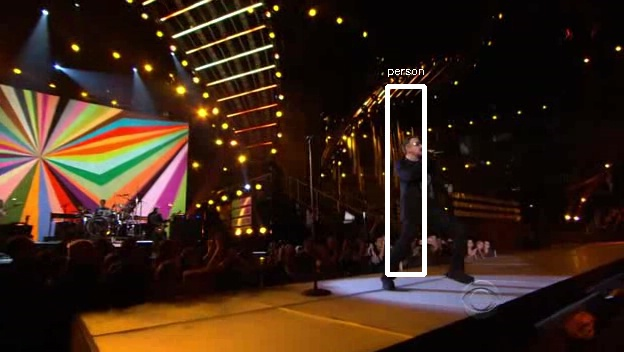person: (394, 139, 453, 241), (391, 139, 450, 241), (397, 139, 456, 241), (394, 136, 453, 238), (394, 142, 453, 244)
target_negative: (347, 169, 617, 316), (417, 79, 517, 336), (65, 50, 194, 154), (86, 94, 171, 237), (604, 3, 619, 346), (309, 27, 335, 77)
